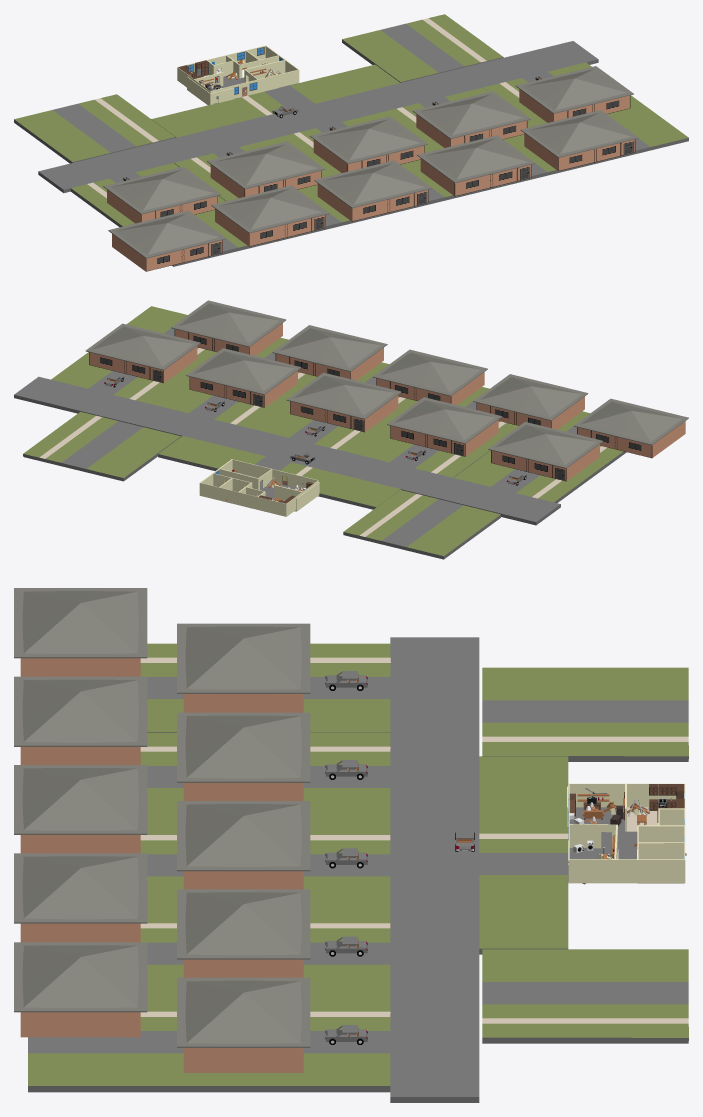
File: BahayFinal.glb
3 renders of one model, top to bottom at view 1: azimuth 30°, elevation 25°; view 2: azimuth 150°, elevation 25°; view 3: azimuth 270°, elevation 25°, orthographic. The views are drawn at different scales.
Parts seen in each view (by area): view 1: BahayFinal-col; view 2: BahayFinal-col; view 3: BahayFinal-col.
Part boxes in pixels (<box>): BahayFinal-col: <box>14,14,688,271</box>; BahayFinal-col: <box>14,300,688,559</box>; BahayFinal-col: <box>14,588,688,1102</box>.
Bounding box in the file's own units: 232 × 12.87 × 138.
Materials: 79 (77 with a texture image).
